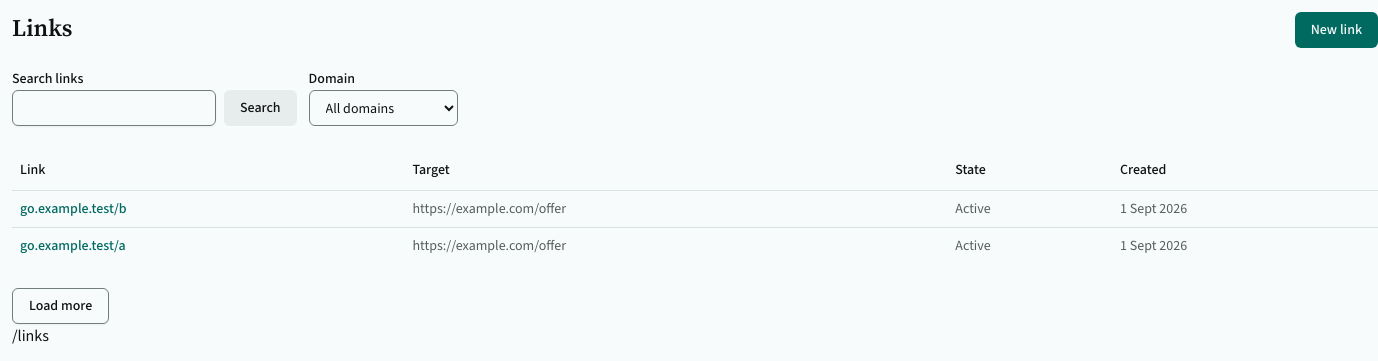
Scenario: the link list › starts over from the first page when a new search is made after Load more
This screenshot has width=1378, height=361.
Click the button "Load more" at (61, 306), box [12,288,109,324]
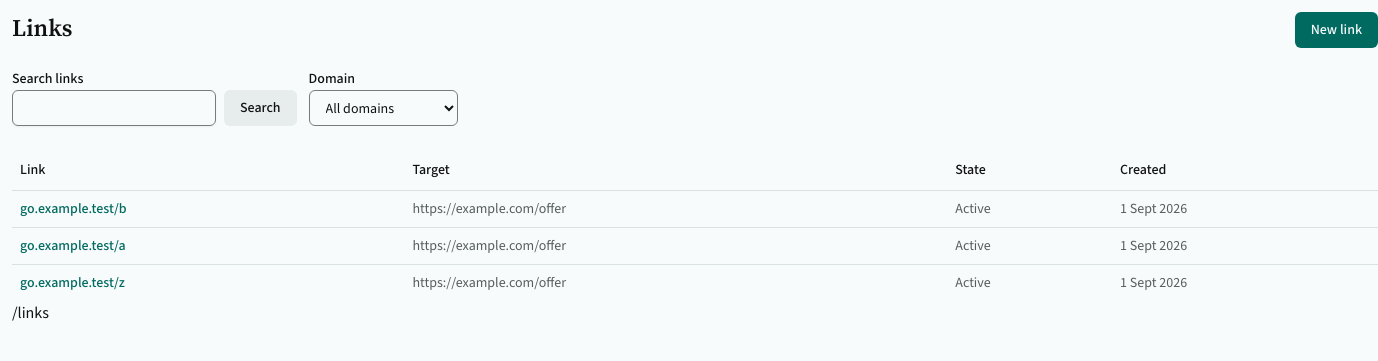
Now the link "go.example.test/z" is shown, box [20,272,125,292]
Type "second" into the search field labelled "Search links" at (114, 108), box [12,90,216,126]
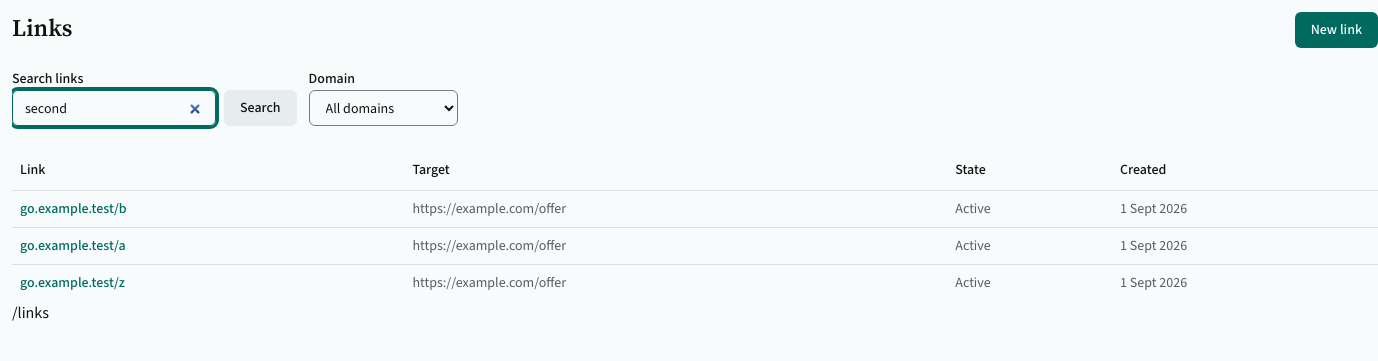
Click the button "Search" at (260, 108), box [224,90,297,126]
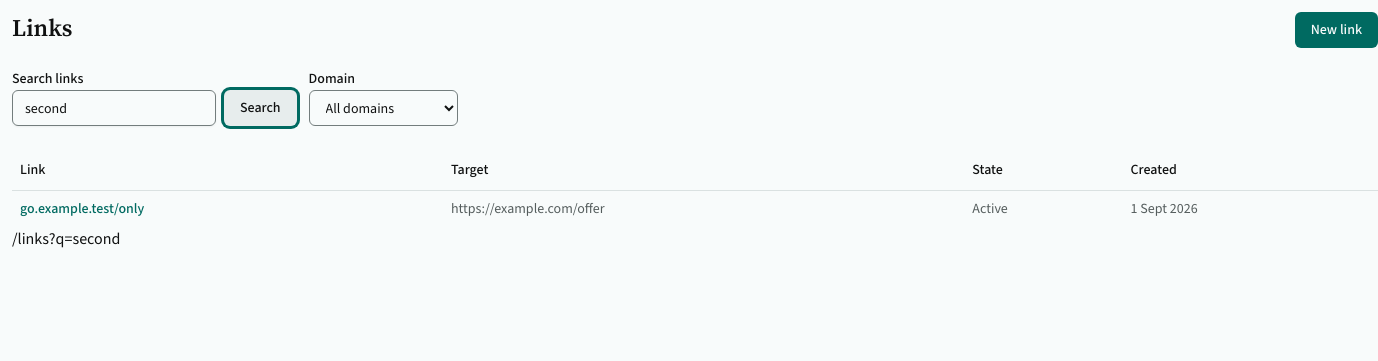
Now the link "go.example.test/only" is shown, box [20,198,144,218]
Now the link "go.example.test/z" is gone
Now the link "go.example.test/b" is gone
